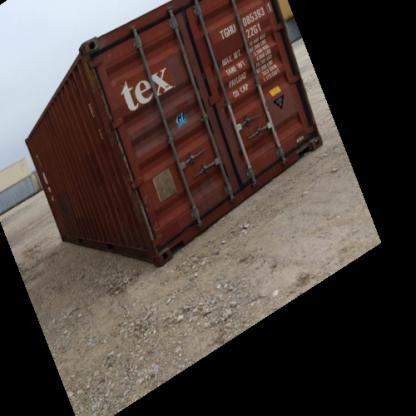Damage: (133, 197, 160, 242), (94, 76, 118, 124), (117, 133, 137, 183)
